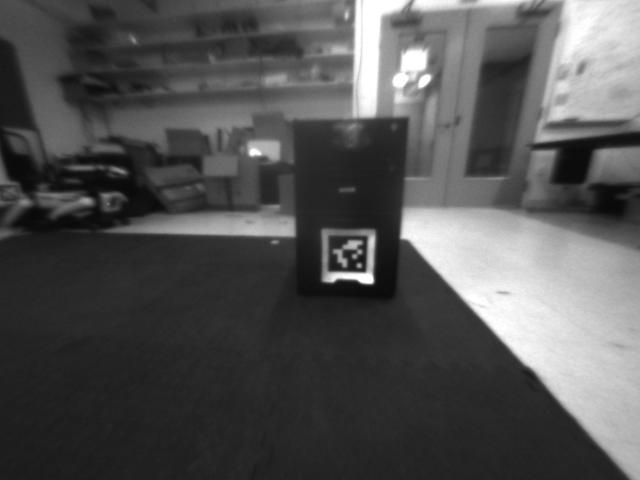door_handle: (433, 120, 453, 133)
drawer: (325, 117, 370, 158)
